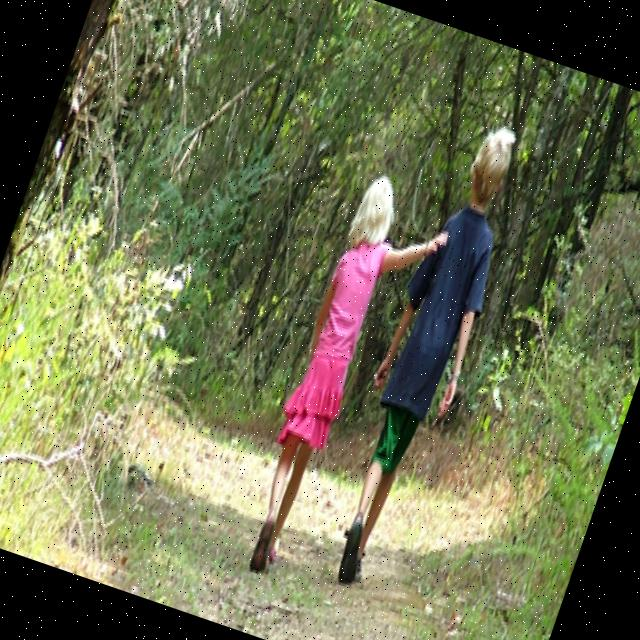Person: (304, 111, 544, 603), (232, 170, 459, 594)
